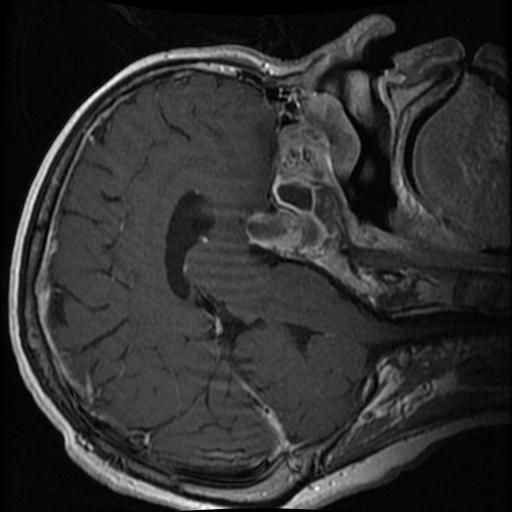pituitary tumour: (242, 211, 327, 259)
